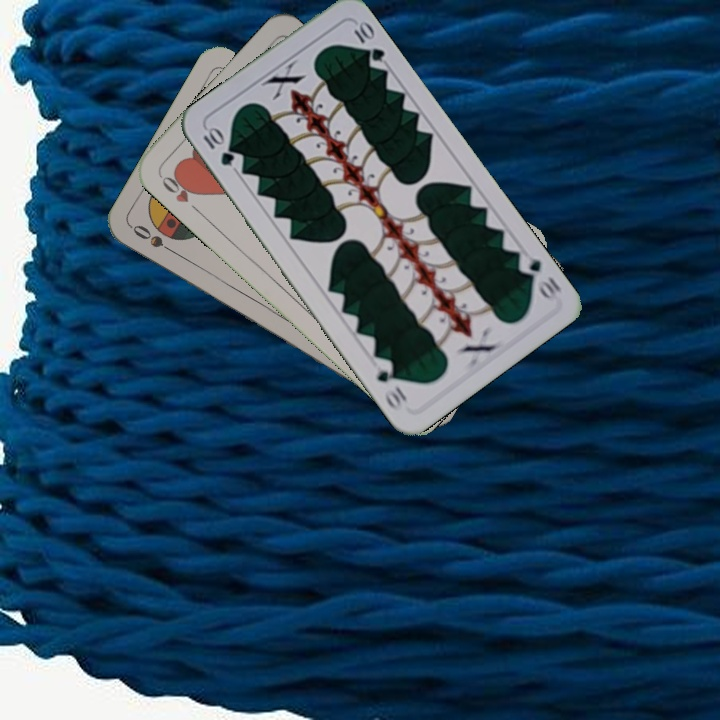G10: (513, 249, 564, 302), (199, 123, 237, 169)
HO: (156, 168, 204, 217)
SO: (128, 220, 182, 259)
